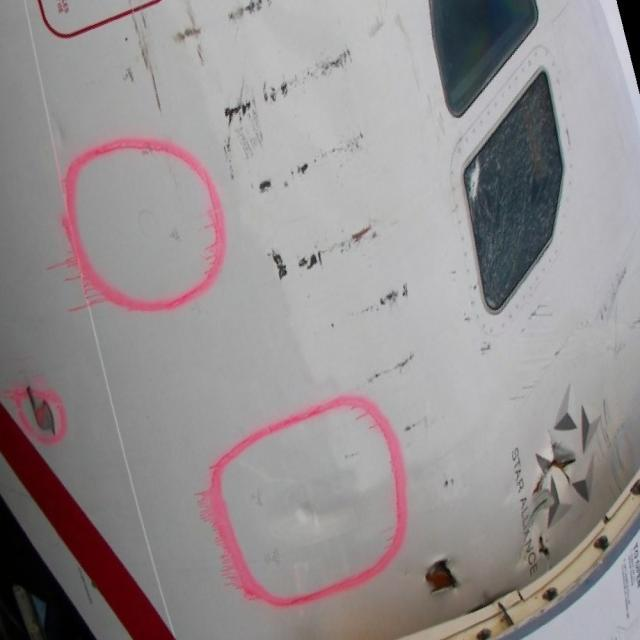crack: (525, 409, 610, 516), (17, 374, 61, 444), (415, 551, 472, 597)
dent: (251, 461, 360, 559)
